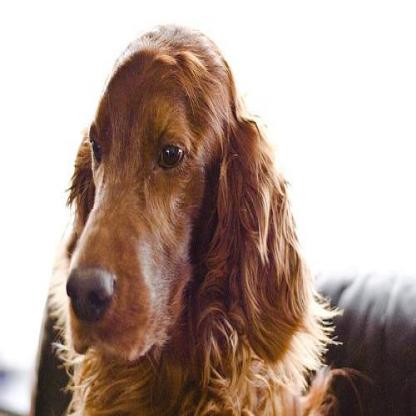Irish_setter: (46, 23, 346, 414)
